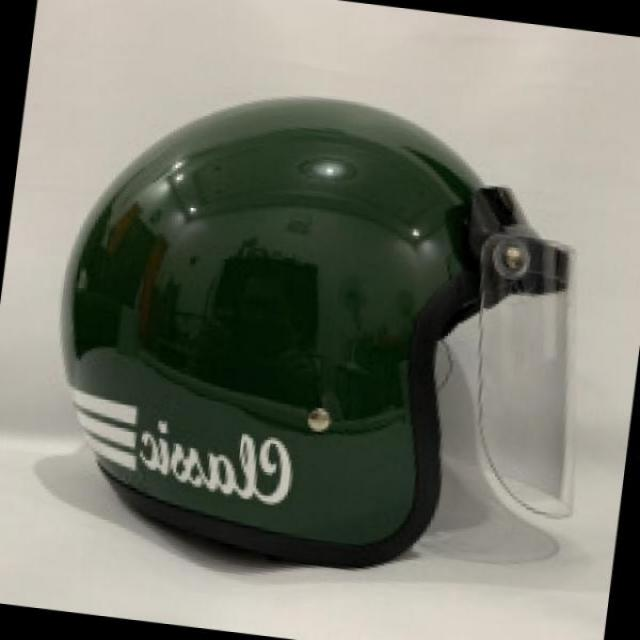Helmet: (61, 100, 599, 567)
